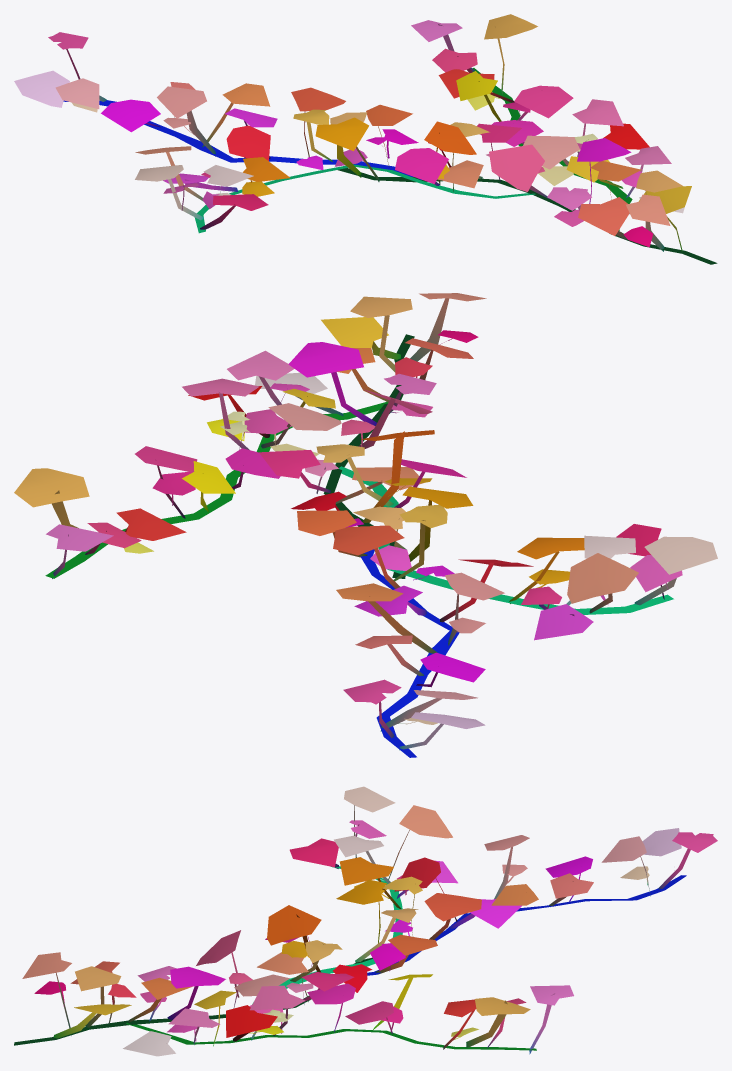
File: English_Ivy_xfcnebhqx_Mid_xfcnebhqx_VarE_LOD1.fbx
The picture shows the model from 3 angles, top to bottom: view 1: azimuth 30°, elevation 25°; view 2: azimuth 150°, elevation 25°; view 3: azimuth 270°, elevation 25°; orthographic projection. The views are drawn at different scales.
Visible parts, largest first — view 1: _wqhg_VarE_LOD3; view 2: _wqhg_VarE_LOD3; view 3: _wqhg_VarE_LOD3.
Boxes of the visible parts, left/top/right/bottom form: _wqhg_VarE_LOD3: left=14, top=14, right=717, bottom=264; _wqhg_VarE_LOD3: left=14, top=293, right=717, bottom=757; _wqhg_VarE_LOD3: left=14, top=786, right=717, bottom=1056.
Size of the model in its own units: 85.42 by 12.14 by 112.
